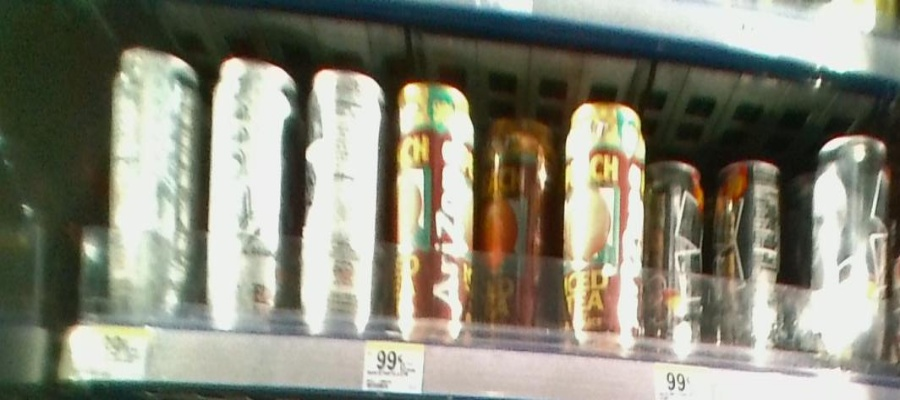bottle: (208, 50, 303, 339), (100, 44, 195, 327), (392, 77, 475, 351), (568, 96, 648, 369), (478, 102, 563, 352), (309, 61, 381, 345), (816, 133, 896, 377), (715, 152, 782, 372), (647, 151, 708, 370)
